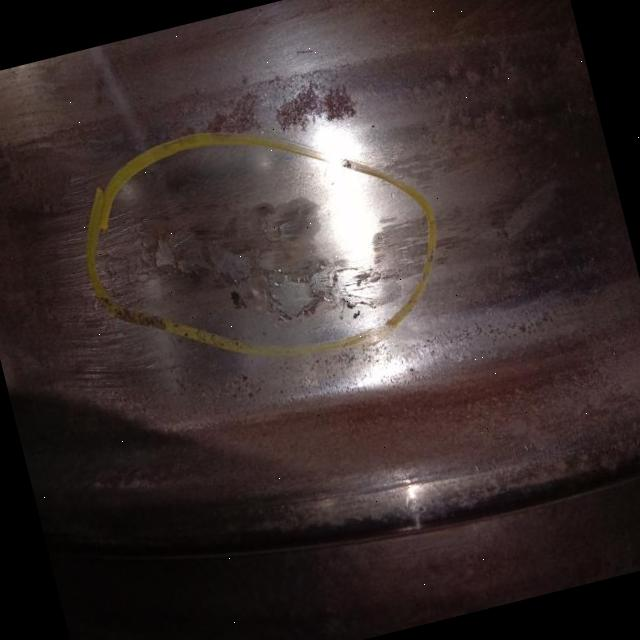flat: (66, 158, 371, 351)
